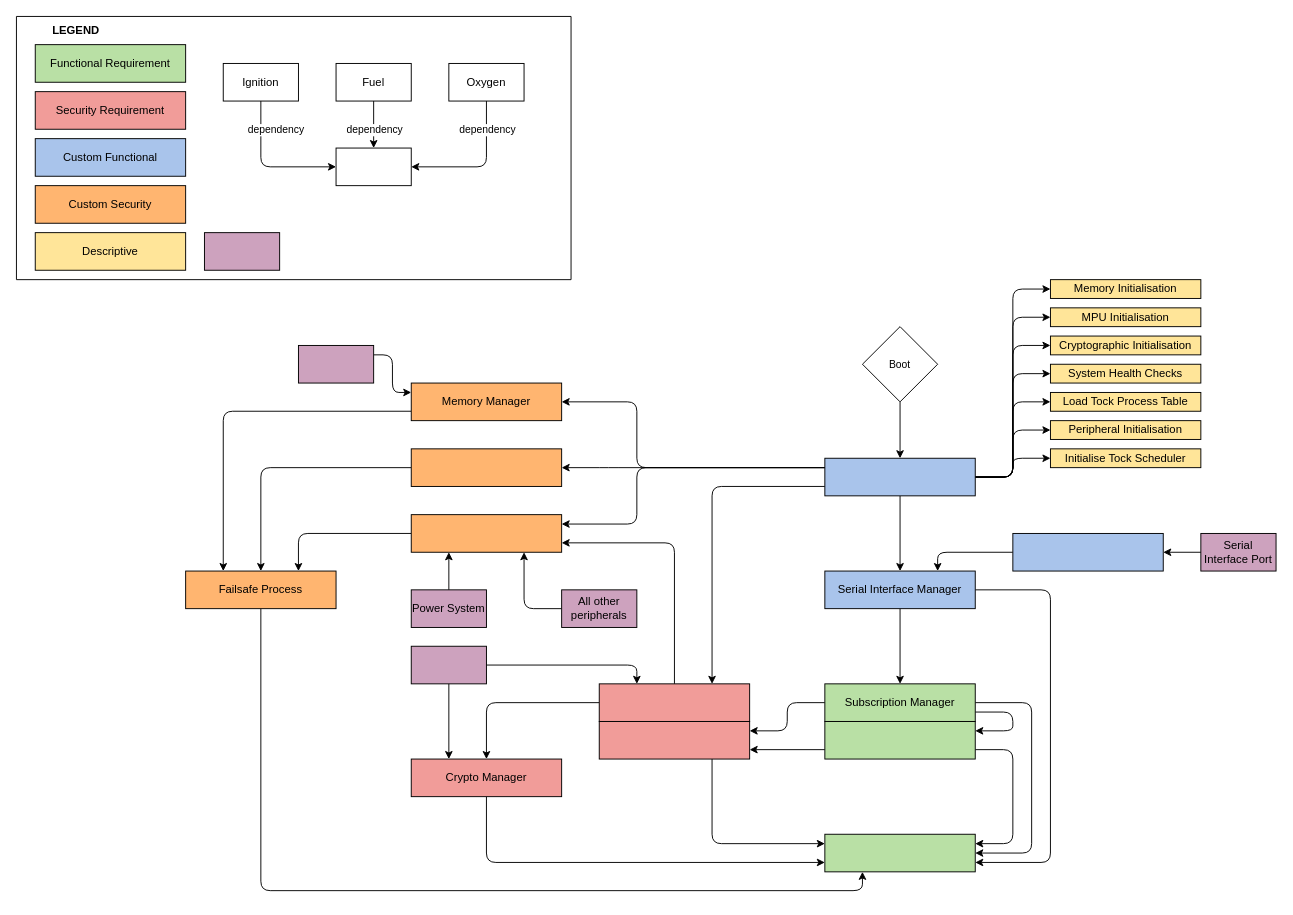
Some shapes in this 1293 by 915 pixel diagram are drawn without their labels. Here are the shapes that lost their labels. From the top down, the box of each, then its label:
(335, 147, 411, 186): Fire
(204, 232, 280, 270): Hardware
(298, 345, 374, 383): Flash Memory
(410, 448, 562, 486): Error Manager
(824, 457, 975, 496): Initialisation Manager
(410, 514, 562, 552): Sentry Process
(1012, 533, 1163, 571): Custom UART Driver
(410, 645, 486, 684): Oscillators
(598, 683, 750, 721): Clock Monitor
(598, 721, 750, 759): Validation Manager
(824, 721, 975, 759): Channel Manager (no crypto access)
(824, 833, 975, 872): Frame Decoder
